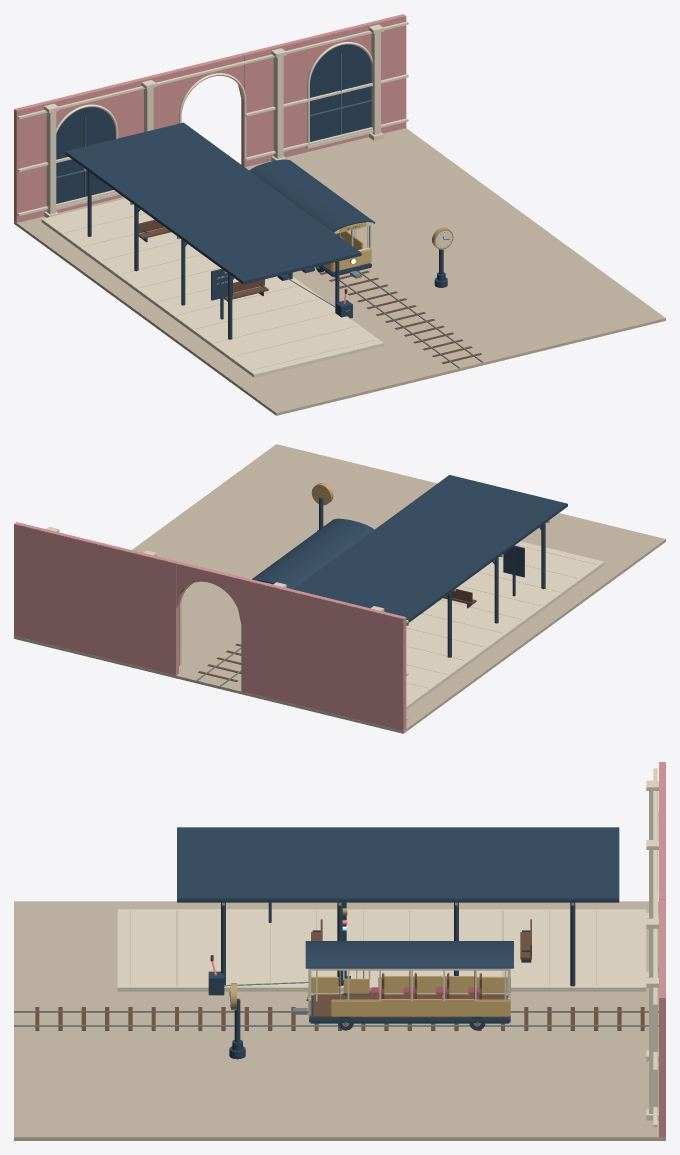
File: jingwai-station.fbx
3 renders of one model, top to bottom at view 1: azimuth 30°, elevation 25°; view 2: azimuth 150°, elevation 25°; view 3: azimuth 270°, elevation 25°, orthographic. The views are drawn at different scales.
Visible parts, largest first — view 1: Station ground, Roof station canopy, Platform curb, Coral cinema side frontage, Coral cinema side frontage.001, Station facade arch dark glazing, Tram barrel roof, Station facade arch dark glazing.001, Facade top ivory string course, Station frontage pier shaft.001, Station frontage pier shaft.003, Station frontage pier shaft (+3 smaller); view 2: Station ground, Coral cinema side frontage.001, Coral cinema side frontage, Roof station canopy, Platform curb, Tram barrel roof, Station timetable board; view 3: Station ground, Roof station canopy, Platform curb, Tram barrel roof, Tram side enamel lower, Tram side enamel lower.001, Coral cinema side frontage, Tram walkable interior floor, Tram steel chassis, Tram steel rail, Station frontage pier shaft, Facade top ivory string course (+3 smaller).
Part boxes in pixels (bbox=[...]): Station ground: bbox=[14, 128, 665, 415]; Roof station canopy: bbox=[65, 122, 361, 284]; Platform curb: bbox=[41, 198, 383, 377]; Coral cinema side frontage: bbox=[241, 14, 406, 167]; Coral cinema side frontage.001: bbox=[14, 69, 178, 222]; Station facade arch dark glazing: bbox=[310, 44, 371, 141]; Tram barrel roof: bbox=[249, 159, 375, 232]; Station facade arch dark glazing.001: bbox=[56, 107, 115, 203]; Facade top ivory string course: bbox=[17, 21, 408, 119]; Station frontage pier shaft.001: bbox=[273, 49, 283, 158]; Station frontage pier shaft.003: bbox=[46, 107, 56, 214]; Station frontage pier shaft: bbox=[371, 26, 380, 134]; Station ground: bbox=[14, 444, 665, 733]; Coral cinema side frontage.001: bbox=[241, 577, 406, 730]; Coral cinema side frontage: bbox=[14, 522, 178, 675]; Roof station canopy: bbox=[293, 475, 567, 624]; Platform curb: bbox=[406, 541, 604, 709]; Tram barrel roof: bbox=[252, 518, 374, 589]; Station timetable board: bbox=[503, 545, 524, 577]; Station ground: bbox=[14, 901, 665, 1140]; Roof station canopy: bbox=[177, 827, 619, 902]; Platform curb: bbox=[117, 909, 646, 991]; Tram barrel roof: bbox=[305, 941, 513, 968]; Tram side enamel lower: bbox=[331, 999, 509, 1016]; Tram side enamel lower.001: bbox=[378, 976, 510, 993]; Coral cinema side frontage: bbox=[659, 900, 665, 1137]; Tram walkable interior floor: bbox=[313, 994, 505, 1017]; Tram steel chassis: bbox=[309, 995, 510, 1023]; Tram steel rail: bbox=[14, 1025, 658, 1026]; Station frontage pier shaft: bbox=[649, 979, 658, 1113]; Facade top ivory string course: bbox=[653, 768, 657, 1006].
Size of the model in its own units: 24 by 6.76 by 28.
